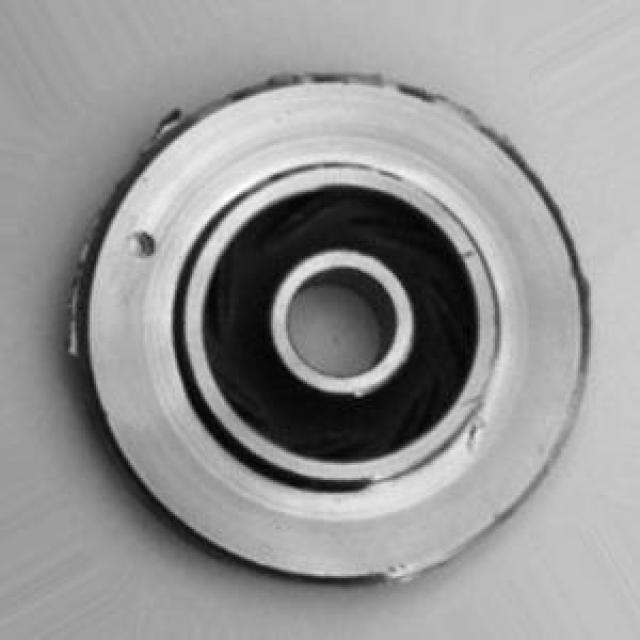Defect: (443, 408, 499, 451), (131, 103, 190, 138), (126, 229, 168, 261)
